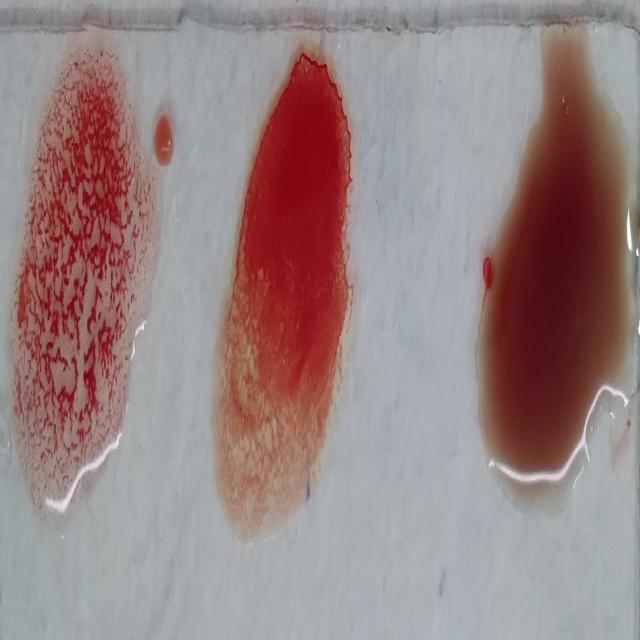B: (221, 42, 352, 543)
D: (12, 28, 152, 516)
